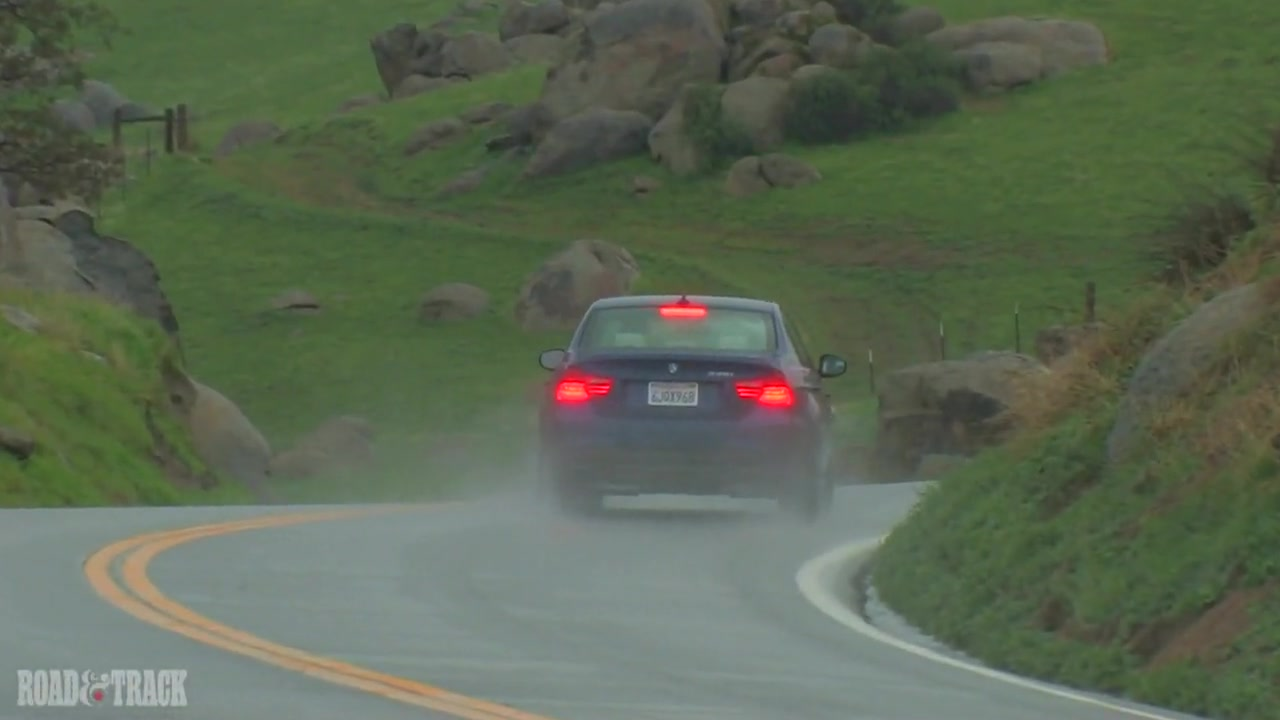car: (533, 292, 854, 526)
